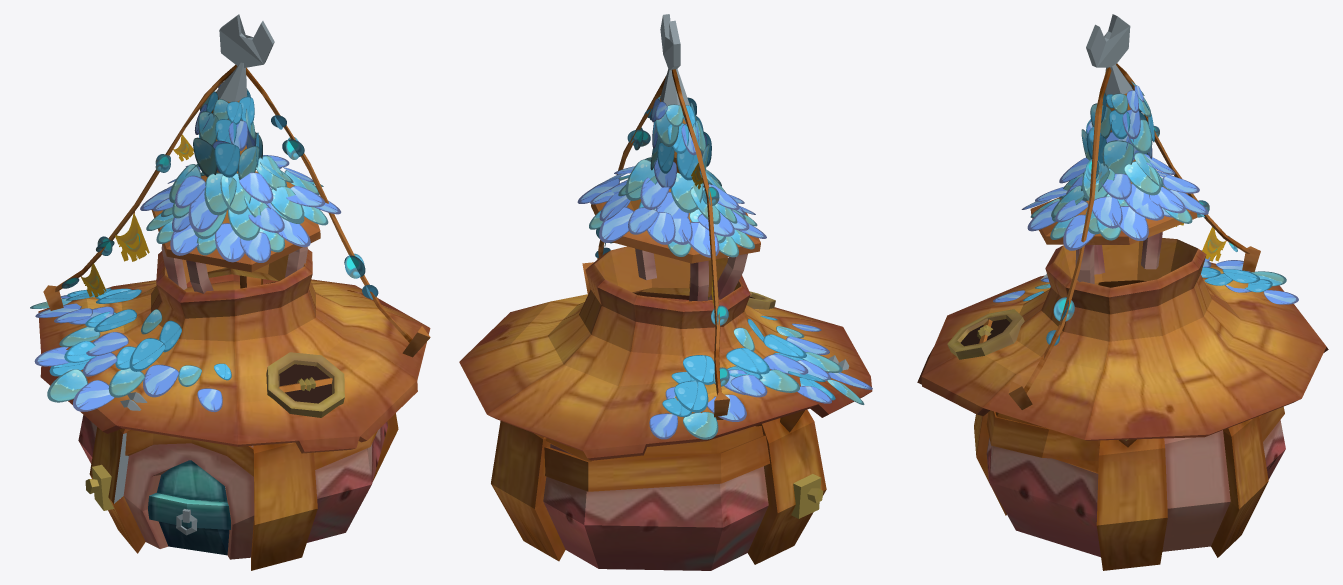
File: fantasy_tower_teal.glb
3 views of the same model, side by side, from view 1: azimuth 30°, elevation 25°; view 2: azimuth 150°, elevation 25°; view 3: azimuth 270°, elevation 25° (orthographic).
Parts seen in each view (by area): view 1: Object_17; view 2: Object_17; view 3: Object_17.
Boxes of the visible parts, <box> form: Object_17: <box>30,14,430,570</box>; Object_17: <box>459,14,872,570</box>; Object_17: <box>917,14,1328,570</box>.
Size of the model in its own units: 4.05 by 5.18 by 3.89.
Materials: 13 (12 with a texture image).
